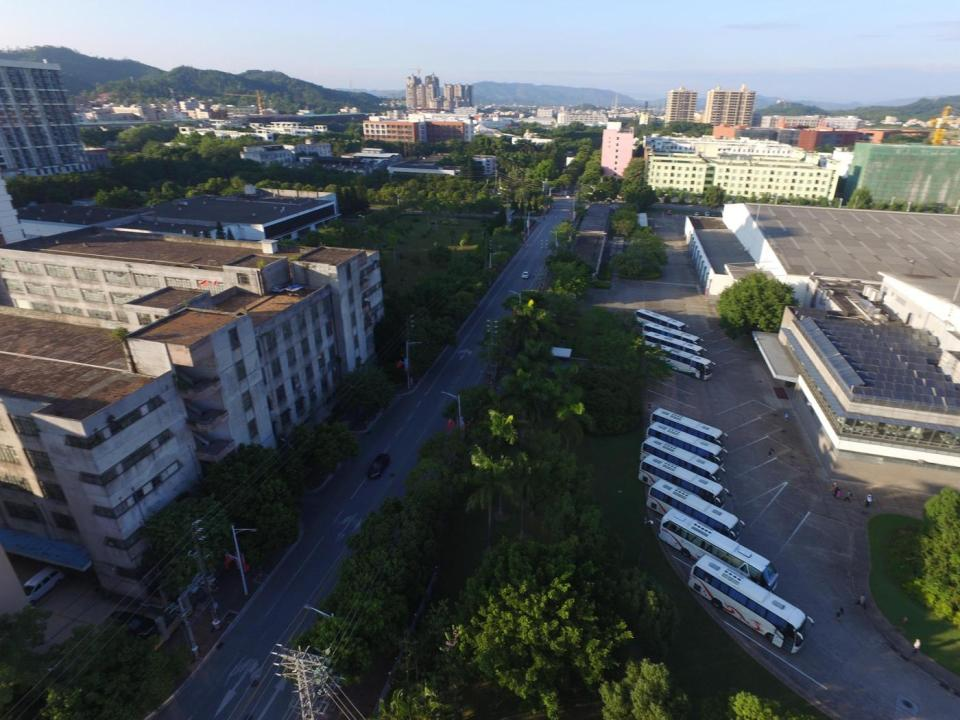bus: (686, 554, 816, 654), (657, 508, 780, 600), (646, 479, 746, 550), (637, 454, 731, 518), (638, 436, 726, 490), (645, 421, 728, 472), (649, 407, 728, 458), (648, 342, 717, 380), (642, 331, 707, 367), (642, 321, 704, 352), (635, 307, 688, 336)
car: (105, 610, 158, 641), (367, 453, 389, 480), (520, 270, 531, 280), (666, 209, 672, 215), (705, 211, 710, 216), (694, 212, 699, 216)
van: (20, 566, 66, 606)
